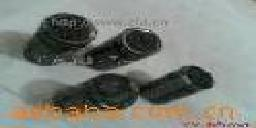Electrolytic-Capacitor: (23, 9, 95, 77), (95, 21, 158, 68)
